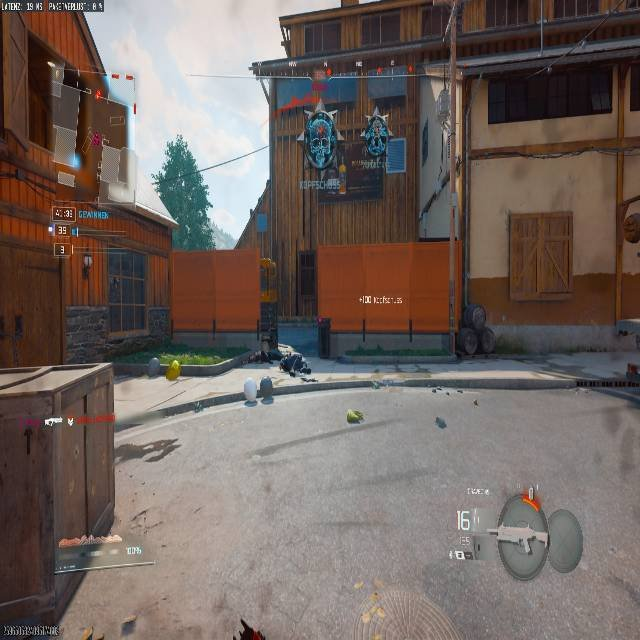head: (370, 111, 385, 123)
player: (301, 107, 345, 186), (361, 110, 391, 171), (458, 303, 491, 358)
